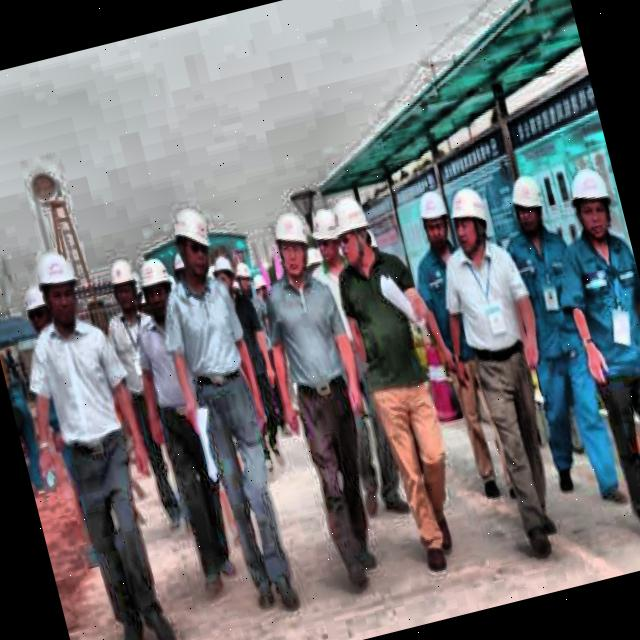helmet: (25, 239, 90, 331), (559, 158, 622, 246), (164, 202, 221, 288), (264, 198, 319, 287), (324, 194, 381, 273), (443, 182, 496, 258), (130, 243, 180, 320), (503, 167, 553, 240), (100, 248, 146, 321), (411, 184, 456, 253), (15, 278, 58, 348), (304, 199, 344, 272), (208, 250, 238, 296), (228, 255, 256, 299)
